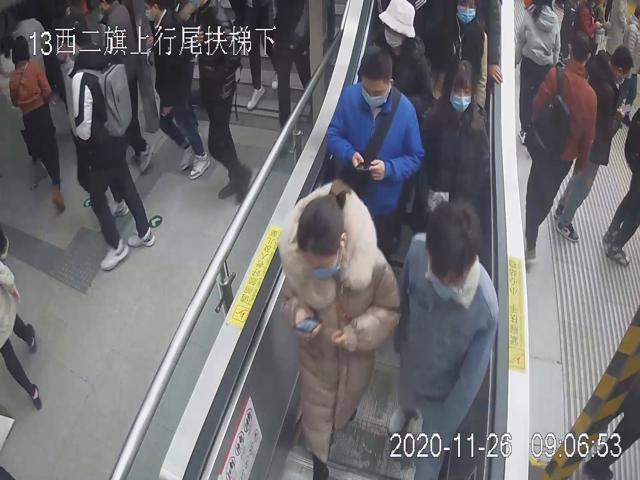person: (277, 178, 402, 480), (397, 197, 501, 480), (62, 14, 155, 270), (324, 47, 424, 256), (519, 27, 598, 262), (419, 56, 491, 234), (353, 0, 432, 112), (428, 0, 487, 113)
